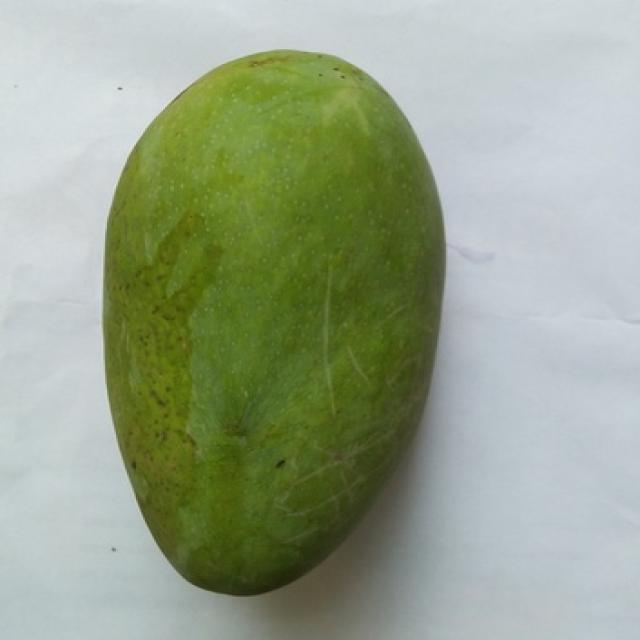Mango: (105, 51, 444, 594)
